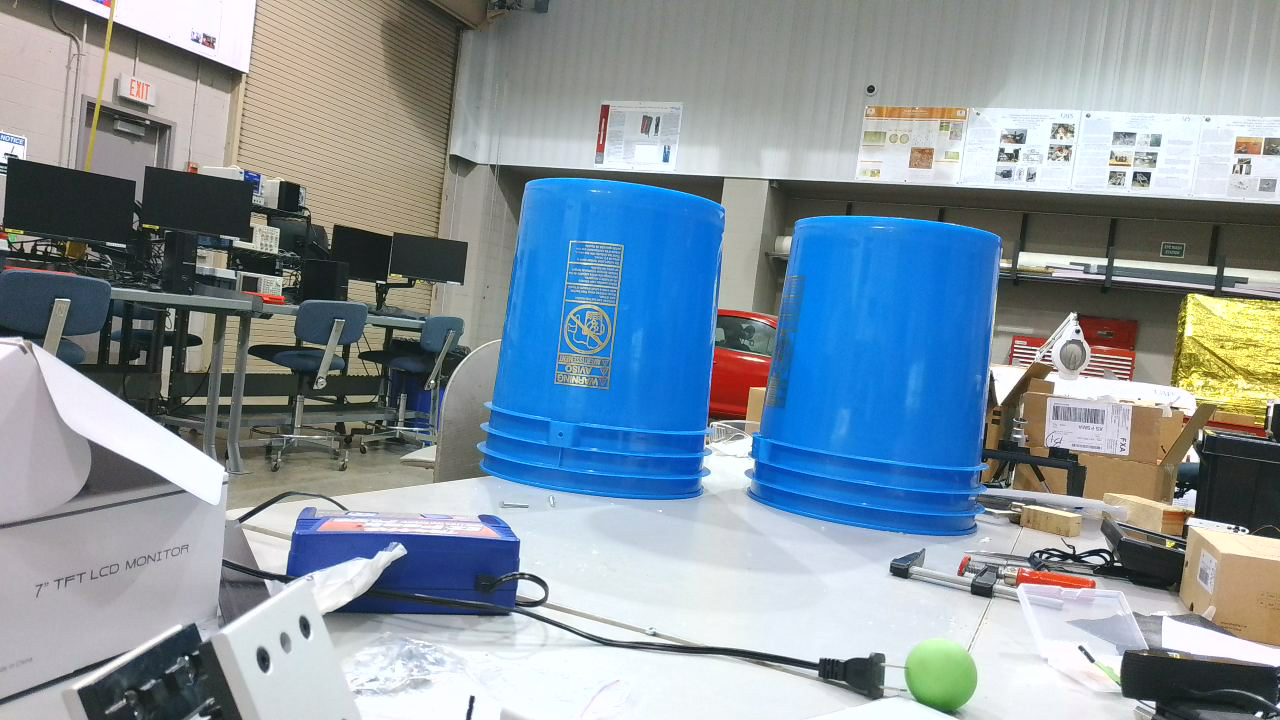blue_bucket: (746, 216, 1011, 545), (479, 179, 735, 509)
